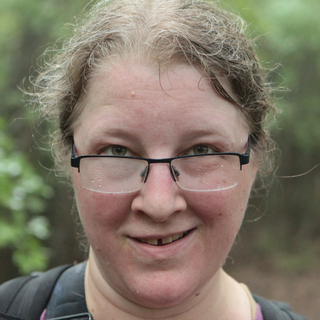eye: (90, 138, 145, 167), (172, 136, 225, 165)
